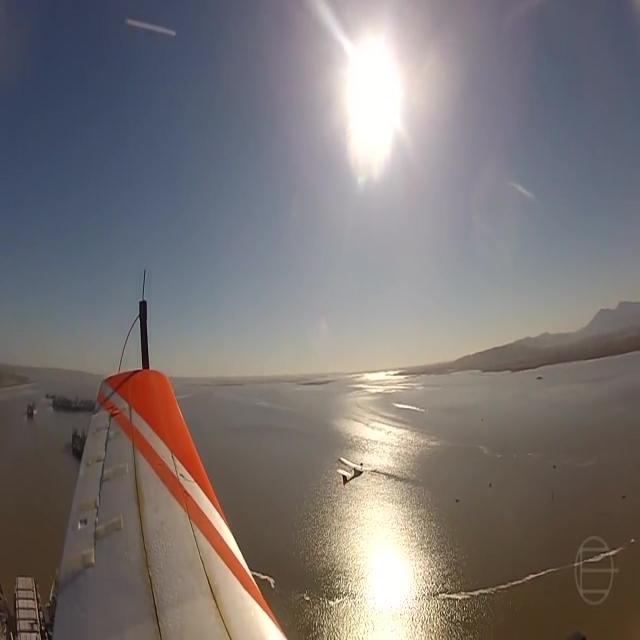iha: (336, 456, 378, 486)
